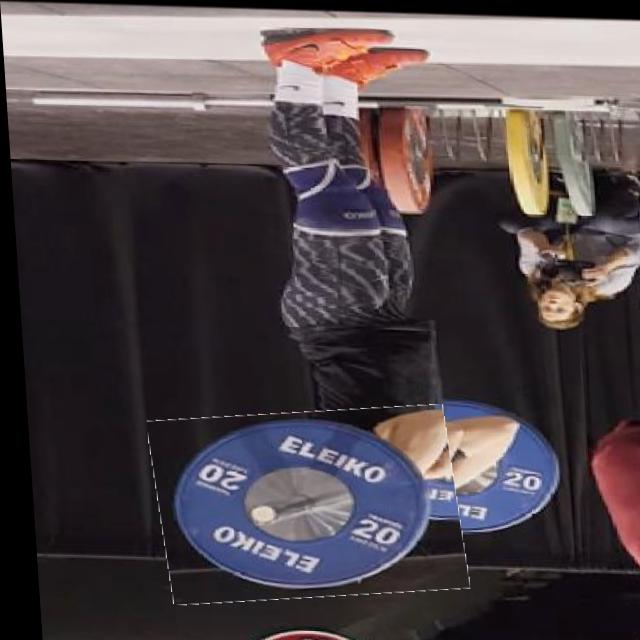barbell: (144, 402, 461, 605)
